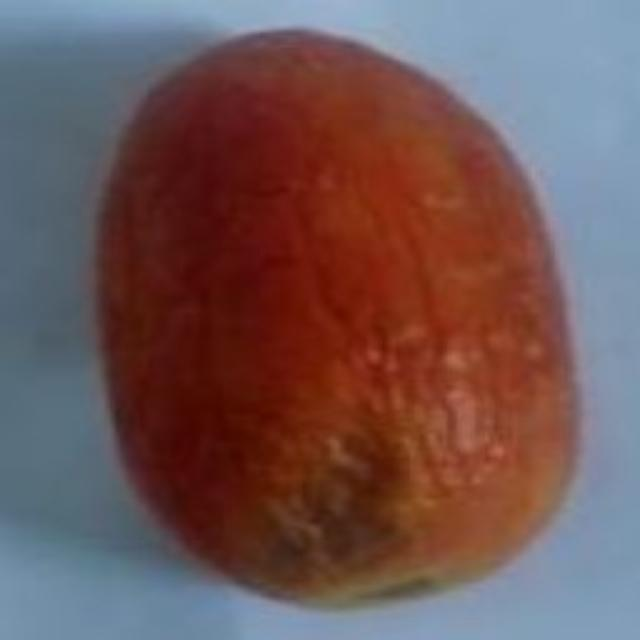defect: (103, 23, 586, 608)
